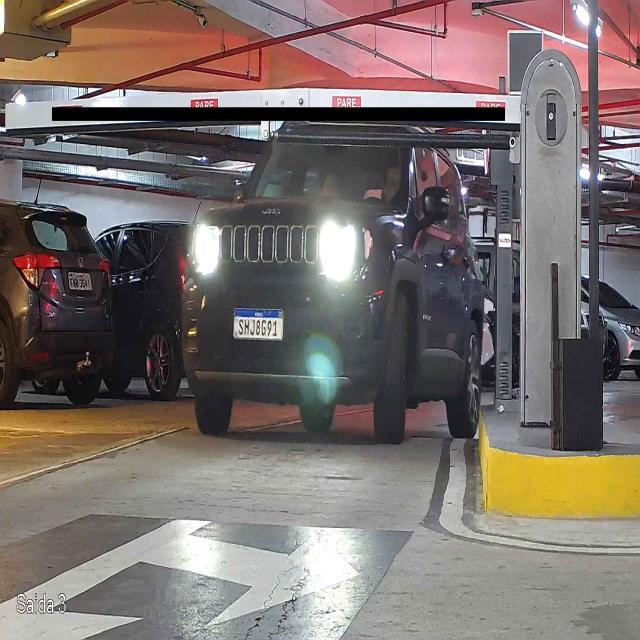mercosul_plate: (231, 306, 284, 343)
